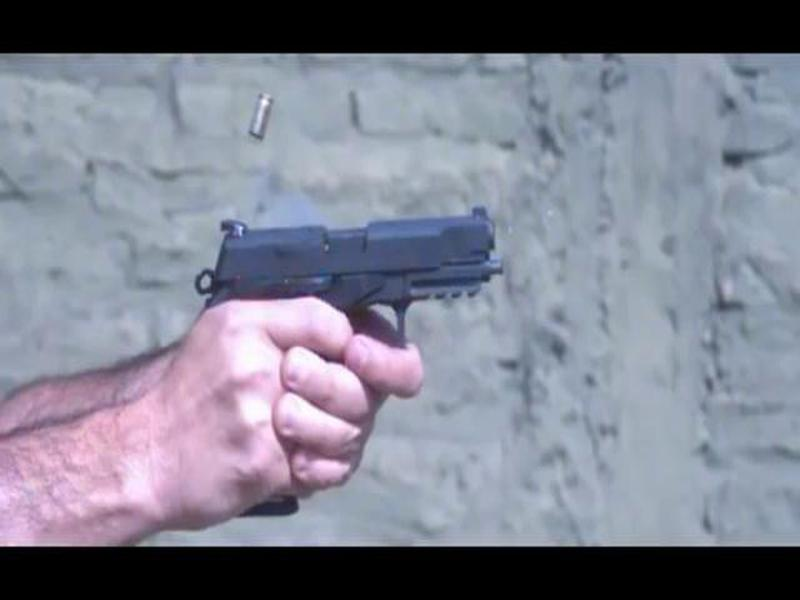Pistola: (195, 204, 516, 394)
